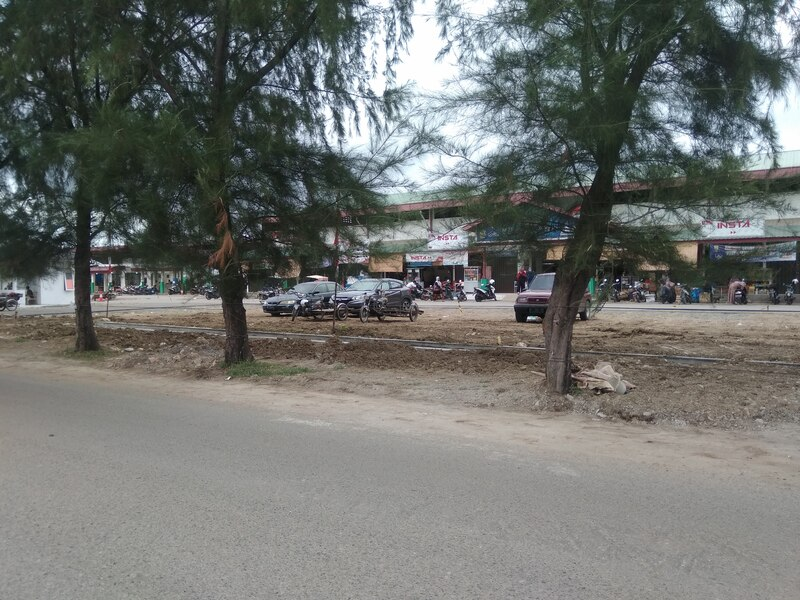becak barang: (358, 291, 428, 327), (288, 287, 353, 324)
